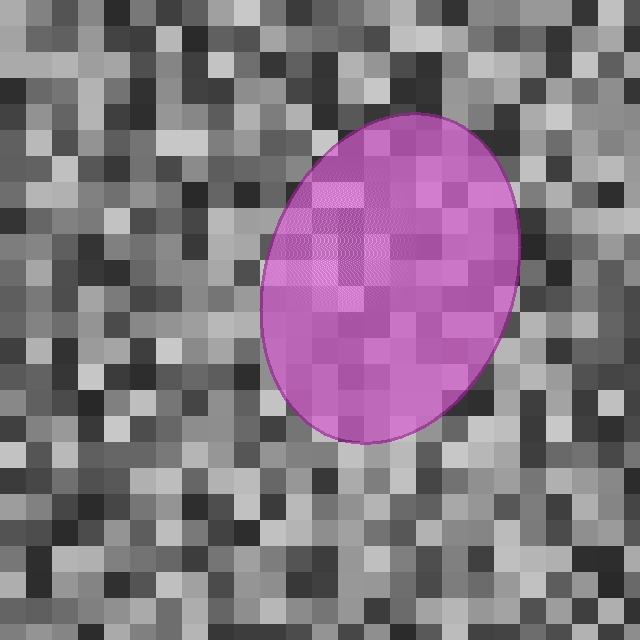lens: (261, 113, 519, 443)
